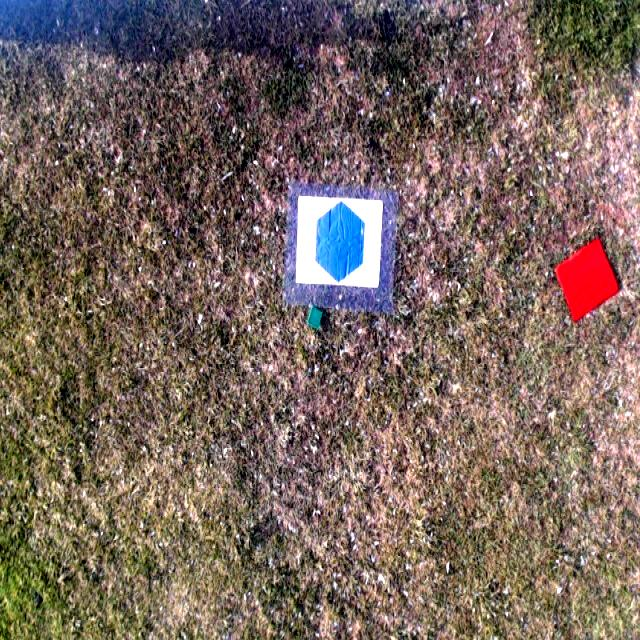blue_hexagon: (316, 203, 364, 280)
red_square: (554, 240, 619, 323)
